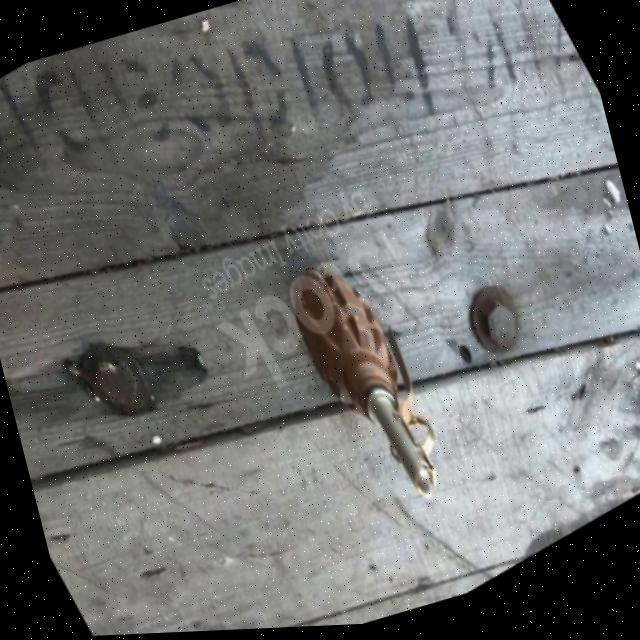grenade: (270, 238, 472, 533)
